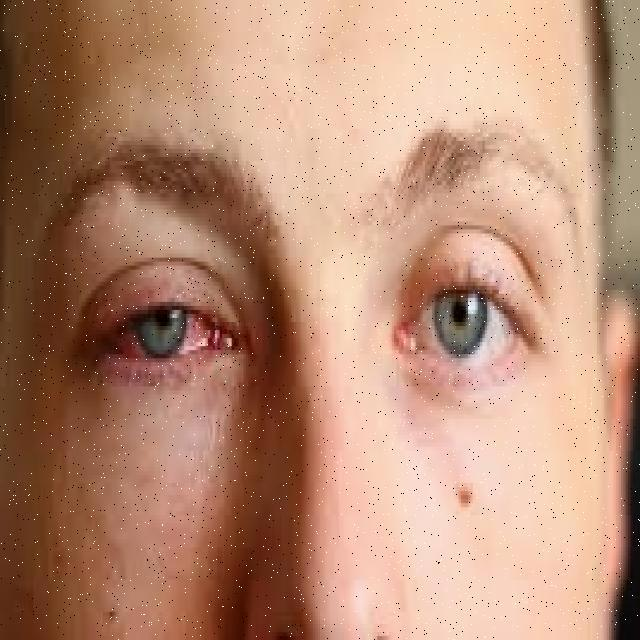Conjunctivitis: (100, 306, 247, 358)
